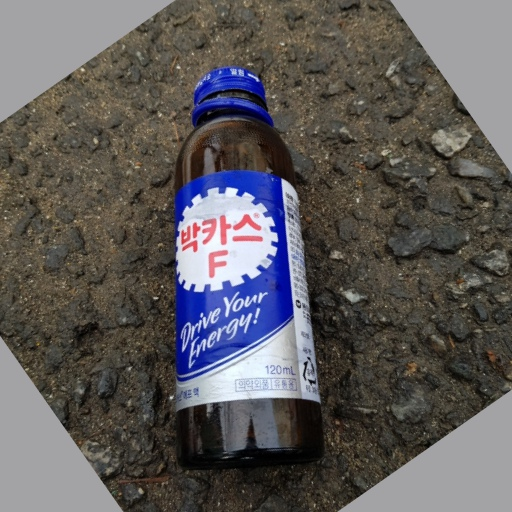Glass_3: (166, 68, 328, 464)
